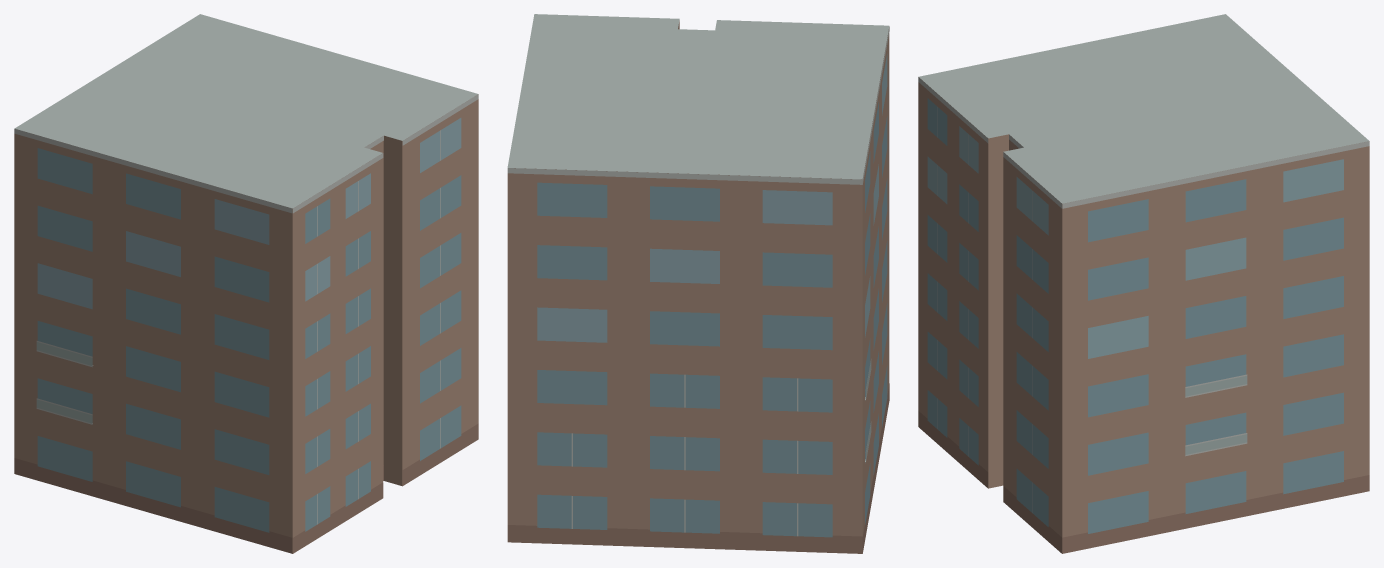
Rendered from survey-upis-33023848.glb.
3 renders of one model, left to right at view 1: azimuth 30°, elevation 25°; view 2: azimuth 150°, elevation 25°; view 3: azimuth 270°, elevation 25°, orthographic. The views are drawn at different scales.
Parts seen in each view (by area): view 1: survey-upis-33023848.tmp; view 2: survey-upis-33023848.tmp; view 3: survey-upis-33023848.tmp.
Boxes of the visible parts, left/top/right/bottom form: survey-upis-33023848.tmp: left=14, top=14, right=478, bottom=553; survey-upis-33023848.tmp: left=507, top=14, right=889, bottom=553; survey-upis-33023848.tmp: left=918, top=14, right=1369, bottom=553.
Size of the model in its own units: 19.53 by 16.8 by 19.63.
